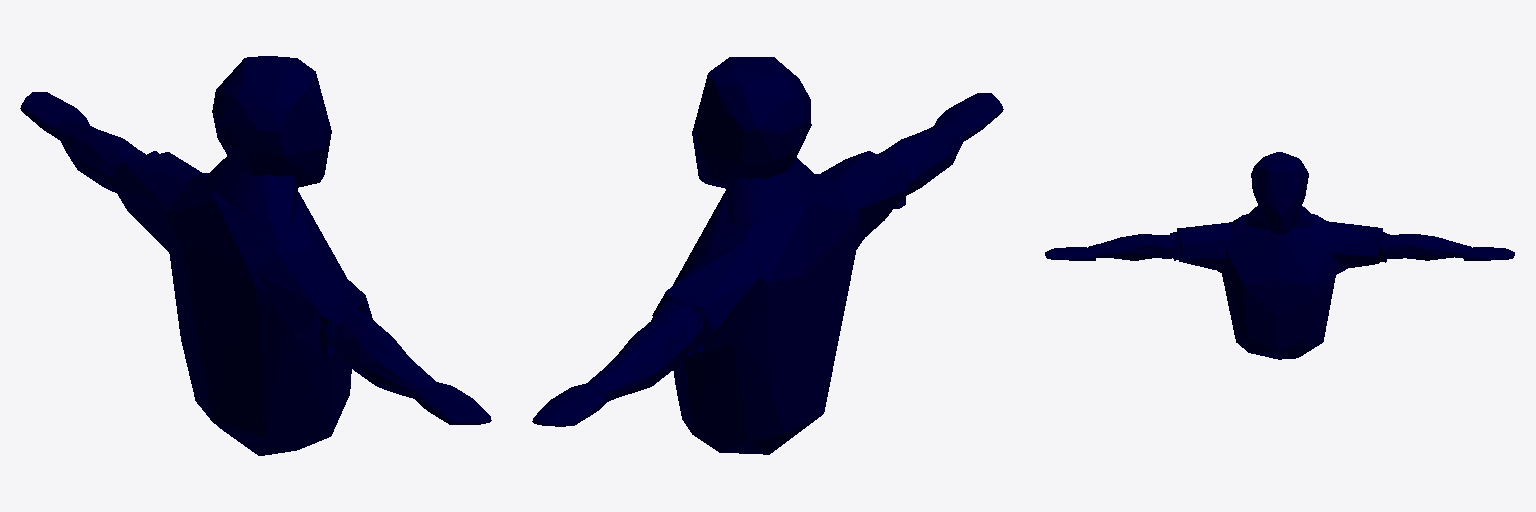
robot.urdf — torso_arms:
<?xml version="1.0" ?>
<!-- Generated by scripts/generate_torso_arms.py -->
<robot name="torso_arms">
	<link name="torso">
		<inertial>
			<origin xyz="0 0 0" rpy="0 0 0" />
			<mass value="24.0" />
			<inertia ixx="1.1" ixy="0" ixz="0" iyy="1.1" iyz="0" izz="1.1" />
		</inertial>
		<visual>
			<origin xyz="0 0 -0.20" rpy="0 0 0" />
			<geometry>
				<mesh filename="package://torso_description/meshes/TorsoHeadLink.stl" />
			</geometry>
			<material name="SemiTransparentNavy">
				<color rgba="0.0 0.0 0.25 0.5" />
			</material>
		</visual>
	</link>

	<joint name="LArm_0" type="revolute">
		<parent link="torso" />
		<child link="torso2lshoulder_1" />
		<origin xyz="-0.05 0.15 0.15" rpy="0.0 0.0 0.0" />
		<axis xyz="1 0 0" />
		<limit lower="-1.42" upper="1.57" effort="100" velocity="100" />
	</joint>

	<link name="torso2lshoulder_1">
		<inertial>
			<origin xyz="0.0 0.0 0.0" rpy="0 0 0" />
			<mass value="0.2" />
			<inertia ixx="3.2e-06" ixy="0" ixz="0" iyy="3.2e-06" iyz="0" izz="3.2e-06" />
		</inertial>
	</link>

	<joint name="LArm_1" type="revolute">
		<parent link="torso2lshoulder_1" />
		<child link="torso2lshoulder_2" />
		<origin xyz="-0 0 0" rpy="0.0 0.0 0.0" />
		<axis xyz="0 1 0" />
		<limit lower="-1.2" upper="1.2" effort="100" velocity="100" />
	</joint>

	<link name="torso2lshoulder_2">
		<inertial>
			<origin xyz="0.0 0.0 0.0" rpy="0 0 0" />
			<mass value="0.2" />
			<inertia ixx="3.2e-06" ixy="0" ixz="0" iyy="3.2e-06" iyz="0" izz="3.2e-06" />
		</inertial>
	</link>

	<joint name="LArm_2" type="revolute">
		<parent link="torso2lshoulder_2" />
		<child link="LArmLink" />
		<origin xyz="-0 0 0" rpy="0.0 0.0 0.0" />
		<axis xyz="0 0 1" />
		<limit lower="-2.8" upper="0.9" effort="100" velocity="100" />
	</joint>

	<link name="LArmLink">
		<inertial>
			<origin xyz="-0.0 0.1328 0.0" rpy="0 0 0" />
			<mass value="1.96" />
			<inertia ixx="0.0190577" ixy="0" ixz="0" iyy="0.00919305" iyz="0" izz="0.0179089" />
		</inertial>
		<visual>
			<origin xyz="0 0 0" rpy="0 0 0" />
			<geometry>
				<mesh filename="package://torso_description/meshes/LArm.stl" />
			</geometry>
			<material name="SemiTransparentNavy">
				<color rgba="0.0 0.0 0.25 0.5" />
			</material>
		</visual>
	</link>

	<joint name="LElbow" type="revolute">
		<parent link="LArmLink" />
		<child link="LElbowLink" />
		<origin xyz="-0 0.2 0" rpy="0.0 0.0 0.0" />
		<axis xyz="0 1 0" />
		<limit lower="-1.57" upper="1.0" effort="100" velocity="100" />
	</joint>

	<link name="LElbowLink">
		<inertial>
			<origin xyz="0.000513 0.034528 -0.000934" rpy="0 0 0" />
			<mass value="0.25" />
			<inertia ixx="0.000403785" ixy="0" ixz="0" iyy="0.000350924" iyz="0" izz="0.000442726" />
		</inertial>
		<visual>
			<origin xyz="0 0 0" rpy="0 0 0" />
			<geometry>
				<mesh filename="package://torso_description/meshes/LElbow.stl" />
			</geometry>
			<material name="SemiTransparentNavy">
				<color rgba="0.0 0.0 0.25 0.5" />
			</material>
		</visual>
	</link>

	<joint name="LForearm" type="revolute">
		<parent link="LElbowLink" />
		<child link="LForearmLink" />
		<origin xyz="-0.01 0.05 0" rpy="0.0 0.0 0.0" />
		<axis xyz="0 0 1" />
		<limit lower="-2.5" upper="0.0" effort="100" velocity="100" />
	</joint>

	<link name="LForearmLink">
		<inertial>
			<origin xyz="-0.0 0.15114 0.0" rpy="0 0 0" />
			<mass value="1.18" />
			<inertia ixx="0.00997172" ixy="0" ixz="0" iyy="0.00174835" iyz="0" izz="0.00990647" />
		</inertial>
		<visual>
			<origin xyz="0 0 0" rpy="0 0 0" />
			<geometry>
				<mesh filename="package://torso_description/meshes/LForearm.stl" />
			</geometry>
			<material name="SemiTransparentNavy">
				<color rgba="0.0 0.0 0.25 0.5" />
			</material>
		</visual>
	</link>

	<joint name="LWrist_0" type="revolute">
		<parent link="LForearmLink" />
		<child link="forearm2lwrist_1" />
		<origin xyz="0.01 0.24 -0.01" rpy="0.0 0.0 0.0" />
		<axis xyz="1 0 0" />
		<limit lower="-1.5" upper="1.5" effort="100" velocity="100" />
	</joint>

	<link name="forearm2lwrist_1">
		<inertial>
			<origin xyz="0.0 0.0 0.0" rpy="0 0 0" />
			<mass value="0.05" />
			<inertia ixx="2e-06" ixy="0" ixz="0" iyy="2e-06" iyz="0" izz="2e-06" />
		</inertial>
	</link>

	<joint name="LWrist_1" type="revolute">
		<parent link="forearm2lwrist_1" />
		<child link="LHandLink" />
		<origin xyz="0 0 0" rpy="0.0 0.0 0.0" />
		<axis xyz="0 0 1" />
		<limit lower="-0.35" upper="0.35" effort="100" velocity="100" />
	</joint>

	<link name="LHandLink">
		<inertial>
			<origin xyz="0.0139 0.042 -0.0128" rpy="0 0 0" />
			<mass value="0.272" />
			<inertia ixx="0.000734692" ixy="0" ixz="0" iyy="0.000207028" iyz="0" izz="0.000866769" />
		</inertial>
		<visual>
			<origin xyz="0 0 0" rpy="0 0 0" />
			<geometry>
				<mesh filename="package://torso_description/meshes/LPalm.stl" />
			</geometry>
			<material name="SemiTransparentNavy">
				<color rgba="0.0 0.0 0.25 0.5" />
			</material>
		</visual>
	</link>

	<joint name="RArm_0" type="revolute">
		<parent link="torso" />
		<child link="torso2rshoulder_1" />
		<origin xyz="-0.05 -0.15 0.15" rpy="0.0 0.0 0.0" />
		<axis xyz="1 0 0" />
		<limit lower="-1.42" upper="1.57" effort="100" velocity="100" />
	</joint>

	<link name="torso2rshoulder_1">
		<inertial>
			<origin xyz="0.0 0.0 0.0" rpy="0 0 0" />
			<mass value="0.2" />
			<inertia ixx="3.2e-06" ixy="0" ixz="0" iyy="3.2e-06" iyz="0" izz="3.2e-06" />
		</inertial>
	</link>

	<joint name="RArm_1" type="revolute">
		<parent link="torso2rshoulder_1" />
		<child link="torso2rshoulder_2" />
		<origin xyz="-0 0 0" rpy="0.0 0.0 0.0" />
		<axis xyz="0 1 0" />
		<limit lower="-1.2" upper="1.2" effort="100" velocity="100" />
	</joint>

	<link name="torso2rshoulder_2">
		<inertial>
			<origin xyz="0.0 0.0 0.0" rpy="0 0 0" />
			<mass value="0.2" />
			<inertia ixx="3.2e-06" ixy="0" ixz="0" iyy="3.2e-06" iyz="0" izz="3.2e-06" />
		</inertial>
	</link>

	<joint name="RArm_2" type="revolute">
		<parent link="torso2rshoulder_2" />
		<child link="RArmLink" />
		<origin xyz="-0 0 0" rpy="0.0 0.0 0.0" />
		<axis xyz="0 0 1" />
		<limit lower="-0.9" upper="2.8" effort="100" velocity="100" />
	</joint>

	<link name="RArmLink">
		<inertial>
			<origin xyz="-0.0 -0.1328 0.0" rpy="0 0 0" />
			<mass value="1.96" />
			<inertia ixx="0.0188807" ixy="0" ixz="0" iyy="0.00880975" iyz="0" izz="0.017995" />
		</inertial>
		<visual>
			<origin xyz="0 0 0" rpy="0 0 0" />
			<geometry>
				<mesh filename="package://torso_description/meshes/RArm.stl" />
			</geometry>
			<material name="SemiTransparentNavy">
				<color rgba="0.0 0.0 0.25 0.5" />
			</material>
		</visual>
	</link>

	<joint name="RElbow" type="revolute">
		<parent link="RArmLink" />
		<child link="RElbowLink" />
		<origin xyz="-0 -0.2 0" rpy="0.0 0.0 0.0" />
		<axis xyz="0 1 0" />
		<limit lower="-1.57" upper="1.0" effort="100" velocity="100" />
	</joint>

	<link name="RElbowLink">
		<inertial>
			<origin xyz="0.000513 -0.034528 -0.000934" rpy="0 0 0" />
			<mass value="0.25" />
			<inertia ixx="0.00040049" ixy="0" ixz="0" iyy="0.00035915" iyz="0" izz="0.000435513" />
		</inertial>
		<visual>
			<origin xyz="0 0 0" rpy="0 0 0" />
			<geometry>
				<mesh filename="package://torso_description/meshes/RElbow.stl" />
			</geometry>
			<material name="SemiTransparentNavy">
				<color rgba="0.0 0.0 0.25 0.5" />
			</material>
		</visual>
	</link>

	<joint name="RForearm" type="revolute">
		<parent link="RElbowLink" />
		<child link="RForearmLink" />
		<origin xyz="-0.01 -0.05 0" rpy="0.0 0.0 0.0" />
		<axis xyz="0 0 1" />
		<limit lower="0.0" upper="2.5" effort="100" velocity="100" />
	</joint>

	<link name="RForearmLink">
		<inertial>
			<origin xyz="-0.0 -0.15114 0.0" rpy="0 0 0" />
			<mass value="1.18" />
			<inertia ixx="0.0099611" ixy="0" ixz="0" iyy="0.00174859" iyz="0" izz="0.00985095" />
		</inertial>
		<visual>
			<origin xyz="0 0 0" rpy="0 0 0" />
			<geometry>
				<mesh filename="package://torso_description/meshes/RForearm.stl" />
			</geometry>
			<material name="SemiTransparentNavy">
				<color rgba="0.0 0.0 0.25 0.5" />
			</material>
		</visual>
	</link>

	<joint name="RWrist_0" type="revolute">
		<parent link="RForearmLink" />
		<child link="forearm2rwrist_1" />
		<origin xyz="0.01 -0.24 -0.01" rpy="0.0 0.0 0.0" />
		<axis xyz="1 0 0" />
		<limit lower="-1.5" upper="1.5" effort="100" velocity="100" />
	</joint>

	<link name="forearm2rwrist_1">
		<inertial>
			<origin xyz="0.0 0.0 0.0" rpy="0 0 0" />
			<mass value="0.05" />
			<inertia ixx="2e-06" ixy="0" ixz="0" iyy="2e-06" iyz="0" izz="2e-06" />
		</inertial>
	</link>

	<joint name="RWrist_1" type="revolute">
		<parent link="forearm2rwrist_1" />
		<child link="RHandLink" />
		<origin xyz="0 0 0" rpy="0.0 0.0 0.0" />
		<axis xyz="0 0 1" />
		<limit lower="-0.35" upper="0.35" effort="100" velocity="100" />
	</joint>

	<link name="RHandLink">
		<inertial>
			<origin xyz="0.0139 -0.042 -0.0128" rpy="0 0 0" />
			<mass value="0.272" />
			<inertia ixx="0.000734688" ixy="0" ixz="0" iyy="0.000207028" iyz="0" izz="0.000866765" />
		</inertial>
		<visual>
			<origin xyz="0 0 0" rpy="0 0 0" />
			<geometry>
				<mesh filename="package://torso_description/meshes/RPalm.stl" />
			</geometry>
			<material name="SemiTransparentNavy">
				<color rgba="0.0 0.0 0.25 0.5" />
			</material>
		</visual>
	</link>

</robot>

--- Render facts (derived) ---
The picture shows the robot from 3 angles, left to right: view 1: azimuth 30°, elevation 25°; view 2: azimuth 150°, elevation 25°; view 3: azimuth 270°, elevation 25°; orthographic projection.
Robot: torso_arms — 15 links, 14 joints (14 revolute); root link torso; default pose: every joint at zero.
Links seen in each view (by area): view 1: torso, RArmLink, RForearmLink, LArmLink, LForearmLink, RHandLink, LHandLink, RElbowLink; view 2: torso, LArmLink, LForearmLink, RArmLink, RForearmLink, LHandLink, RHandLink, LElbowLink; view 3: torso, LArmLink, RArmLink, LForearmLink, RForearmLink, RHandLink, LHandLink.
Link boxes in pixels (x1=…): torso: x1=164, y1=56, x2=351, y2=455; RArmLink: x1=254, y1=248, x2=372, y2=358; RForearmLink: x1=328, y1=314, x2=437, y2=399; LArmLink: x1=114, y1=151, x2=201, y2=251; LForearmLink: x1=56, y1=118, x2=142, y2=192; RHandLink: x1=415, y1=382, x2=491, y2=424; LHandLink: x1=20, y1=92, x2=89, y2=139; RElbowLink: x1=320, y1=303, x2=373, y2=353; torso: x1=673, y1=57, x2=860, y2=454; LArmLink: x1=651, y1=244, x2=764, y2=357; LForearmLink: x1=585, y1=311, x2=695, y2=401; RArmLink: x1=821, y1=151, x2=908, y2=248; RForearmLink: x1=889, y1=119, x2=968, y2=195; LHandLink: x1=532, y1=384, x2=607, y2=426; RHandLink: x1=934, y1=93, x2=1003, y2=140; LElbowLink: x1=647, y1=304, x2=703, y2=352; torso: x1=1222, y1=152, x2=1337, y2=359; LArmLink: x1=1326, y1=221, x2=1387, y2=274; RArmLink: x1=1170, y1=222, x2=1230, y2=272; LForearmLink: x1=1393, y1=234, x2=1471, y2=260; RForearmLink: x1=1087, y1=234, x2=1165, y2=260; RHandLink: x1=1045, y1=247, x2=1095, y2=260; LHandLink: x1=1464, y1=247, x2=1514, y2=260.
Bounding box of the posed robot: 0.2732 × 1.61 × 0.7372 m (x, y, z).
9 mesh visuals loaded from 9 distinct referenced files (9 binary STL).
